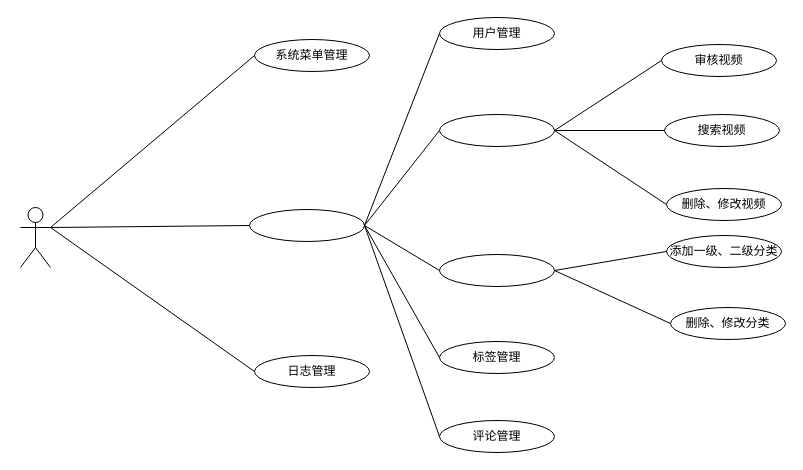
Image size: 803x470. Some labels were removed from this diagram. Each missing label, with the box of its shape:
Web端服务管理: (248, 208, 364, 242)
管理员: (20, 206, 50, 268)
视频管理: (438, 114, 554, 146)
视频类别管理: (438, 254, 554, 286)
